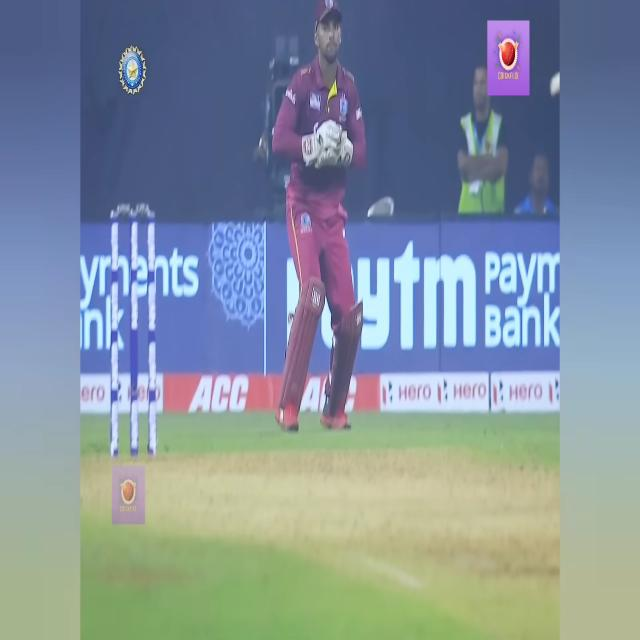partially_visible: (286, 247, 483, 369)
